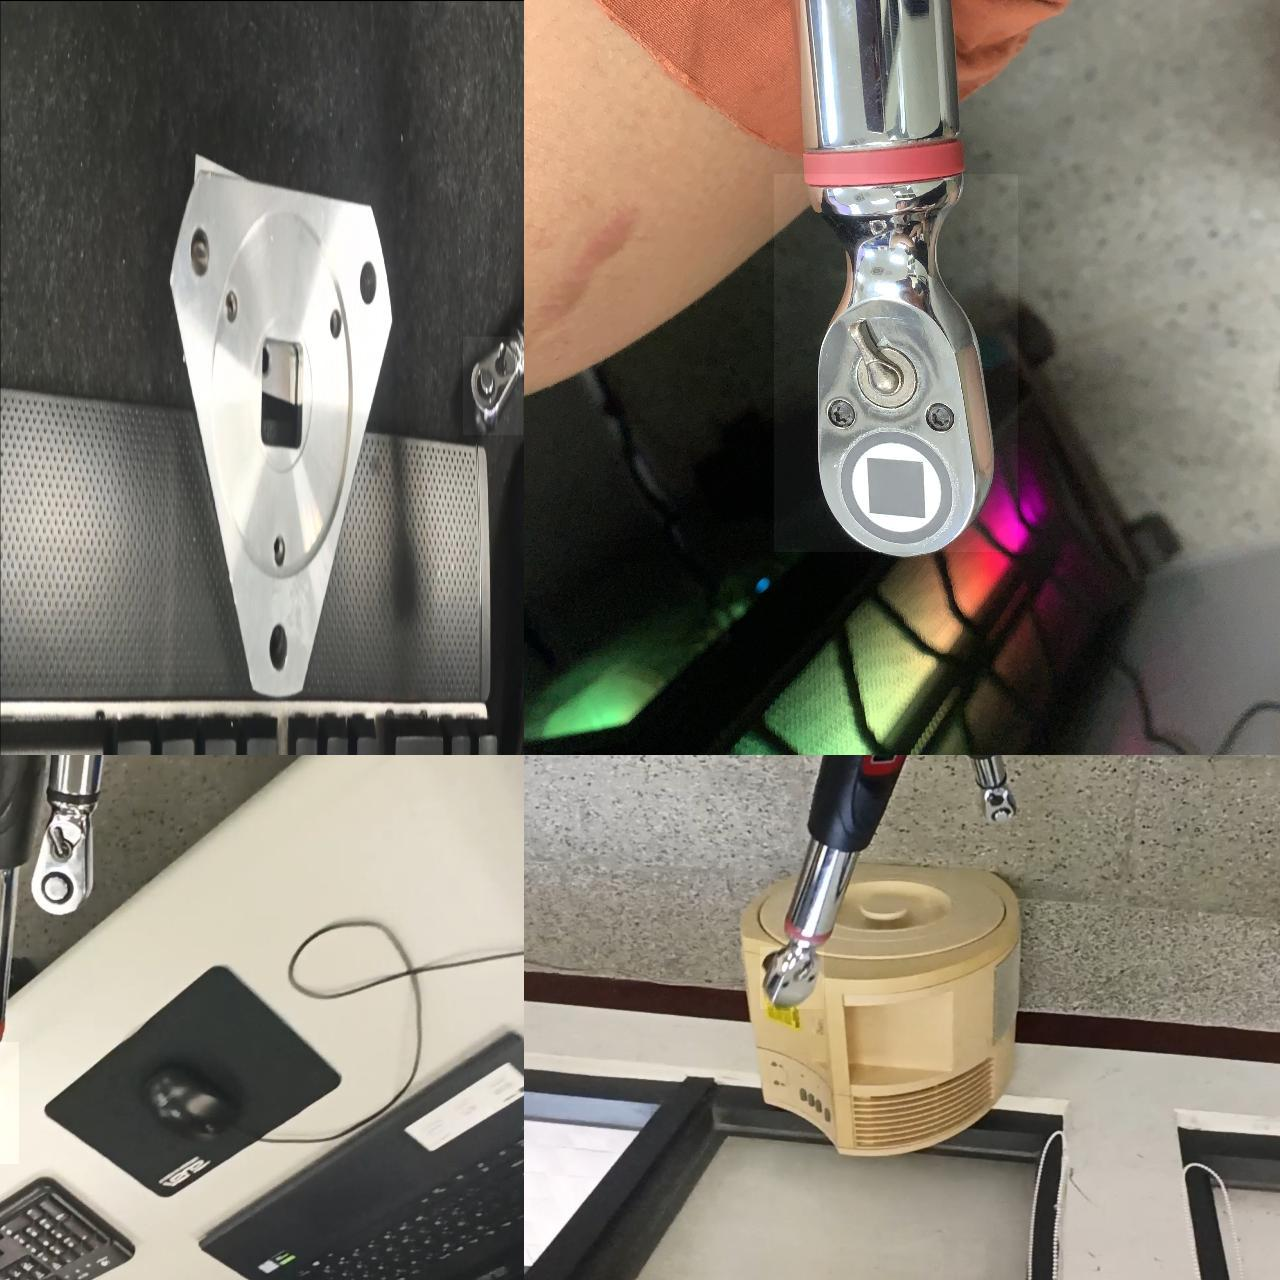Tool: (772, 173, 1017, 551), (25, 796, 117, 922), (463, 335, 523, 435), (760, 946, 823, 1008), (974, 781, 1022, 825)
hole: (263, 610, 292, 685), (181, 220, 209, 277), (352, 261, 381, 312), (220, 279, 238, 331), (264, 533, 287, 571), (325, 307, 346, 342)
